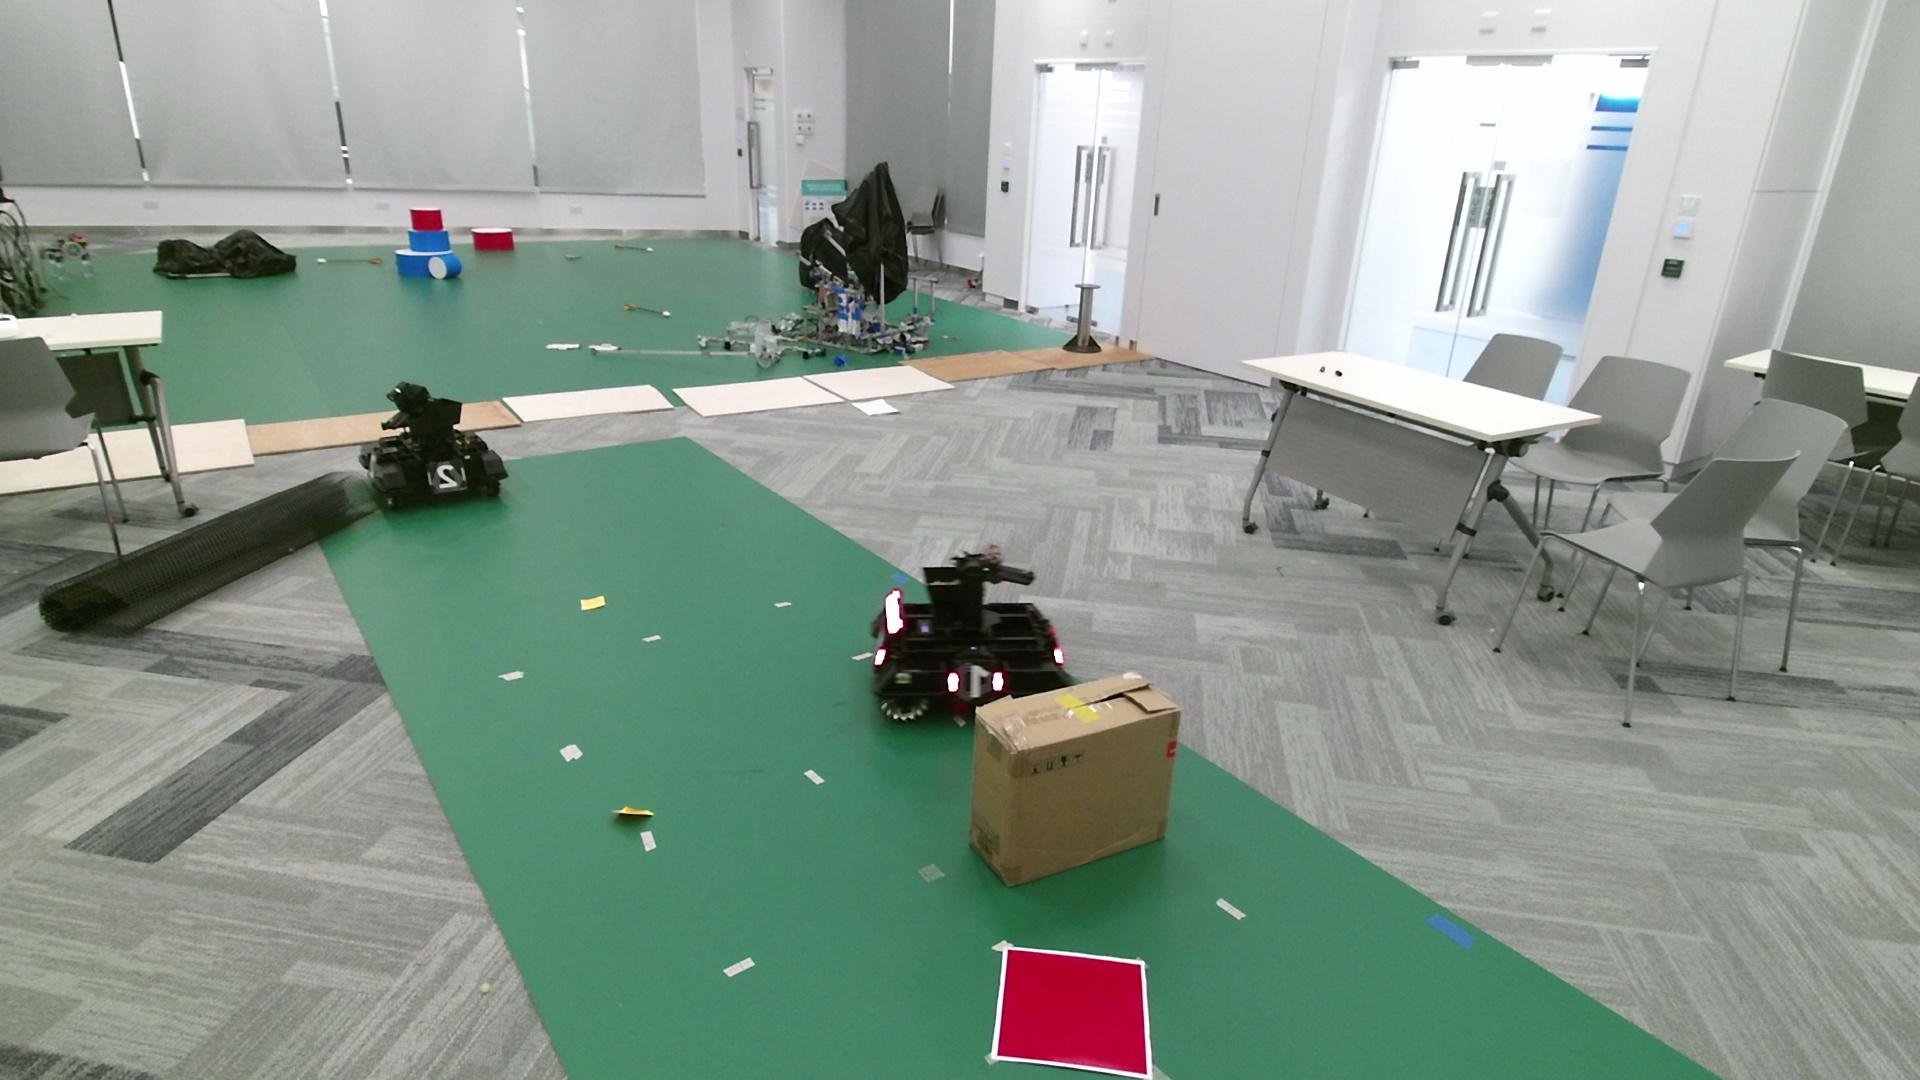robot: (869, 545, 1073, 721), (359, 380, 509, 508)
